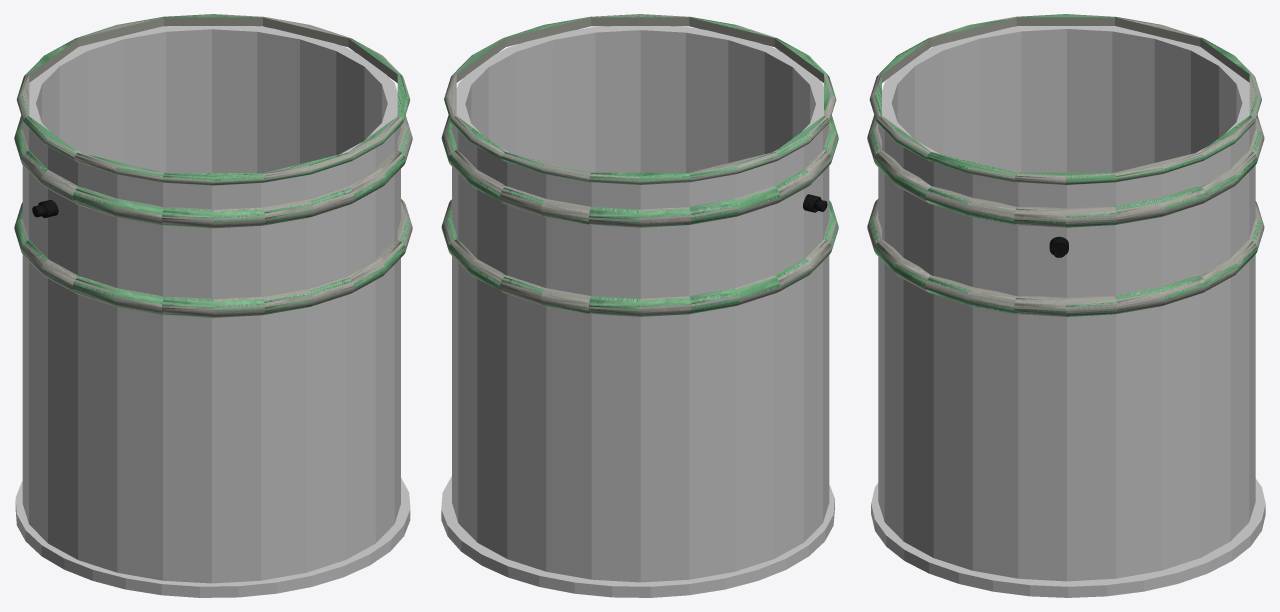
File: original-1.obj
The picture shows the model from 3 angles, left to right: view 1: azimuth 30°, elevation 25°; view 2: azimuth 150°, elevation 25°; view 3: azimuth 270°, elevation 25°; orthographic projection.
Visible parts, largest first — view 1: Circle.015_Circle.104, Circle.014_Circle.103, Circle.016_Circle.105, Circle.013_Circle.102, Circle.017_Circle.106, Circle.012_Circle.101, Circle.011_Circle.100, Circle.018_Circle.107, Cylinder_Cylinder.002, Circle.010_Circle.099, Circle.002_Circle.091, Circle.003_Circle.092 (+31 smaller); view 2: Circle.022_Circle.111, Circle.023_Circle.112, Circle.021_Circle.110, Circle_Circle.089, Circle.001_Circle.090, Circle.020_Circle.109, Circle.002_Circle.091, Circle.019_Circle.108, Cylinder_Cylinder.002, Circle.003_Circle.092, Circle.011_Circle.100, Circle.010_Circle.099 (+31 smaller); view 3: Circle.006_Circle.095, Circle.007_Circle.096, Circle.008_Circle.097, Circle.005_Circle.094, Circle.004_Circle.093, Circle.009_Circle.098, Circle.003_Circle.092, Circle.010_Circle.099, Cylinder_Cylinder.002, Circle.002_Circle.091, Circle.011_Circle.100, Circle.018_Circle.107 (+31 smaller).
Part boxes in pixels (<box>): Circle.015_Circle.104: <box>163,182,211,583</box>; Circle.014_Circle.103: <box>212,183,260,583</box>; Circle.016_Circle.105: <box>117,175,162,580</box>; Circle.013_Circle.102: <box>261,175,306,580</box>; Circle.017_Circle.106: <box>78,162,117,572</box>; Circle.012_Circle.101: <box>306,163,345,572</box>; Circle.011_Circle.100: <box>340,142,375,559</box>; Circle.018_Circle.107: <box>48,146,80,559</box>; Cylinder_Cylinder.002: <box>15,478,410,597</box>; Circle.010_Circle.099: <box>366,123,394,542</box>; Circle.002_Circle.091: <box>163,26,211,172</box>; Circle.003_Circle.092: <box>212,26,260,172</box>; Circle.022_Circle.111: <box>640,182,689,582</box>; Circle.023_Circle.112: <box>591,182,640,582</box>; Circle.021_Circle.110: <box>689,174,734,579</box>; Circle_Circle.089: <box>546,174,591,579</box>; Circle.001_Circle.090: <box>507,162,546,571</box>; Circle.020_Circle.109: <box>735,162,773,571</box>; Circle.002_Circle.091: <box>477,147,508,558</box>; Circle.019_Circle.108: <box>773,146,803,558</box>; Cylinder_Cylinder.002: <box>441,476,834,597</box>; Circle.003_Circle.092: <box>458,123,480,542</box>; Circle.011_Circle.100: <box>640,26,688,172</box>; Circle.010_Circle.099: <box>592,26,640,172</box>; Circle.006_Circle.095: <box>1067,182,1115,581</box>; Circle.007_Circle.096: <box>1018,182,1066,581</box>; Circle.008_Circle.097: <box>972,175,1018,578</box>; Circle.005_Circle.094: <box>1116,174,1161,578</box>; Circle.004_Circle.093: <box>1161,162,1200,570</box>; Circle.009_Circle.098: <box>933,163,972,570</box>; Circle.003_Circle.092: <box>1196,146,1230,557</box>; Circle.010_Circle.099: <box>903,141,939,557</box>; Cylinder_Cylinder.002: <box>871,479,1265,597</box>; Circle.002_Circle.091: <box>1226,122,1249,541</box>; Circle.011_Circle.100: <box>884,122,912,541</box>; Circle.018_Circle.107: <box>1018,26,1066,172</box>.
Bounding box in the file's own units: 1.25 × 1.38 × 1.19.
